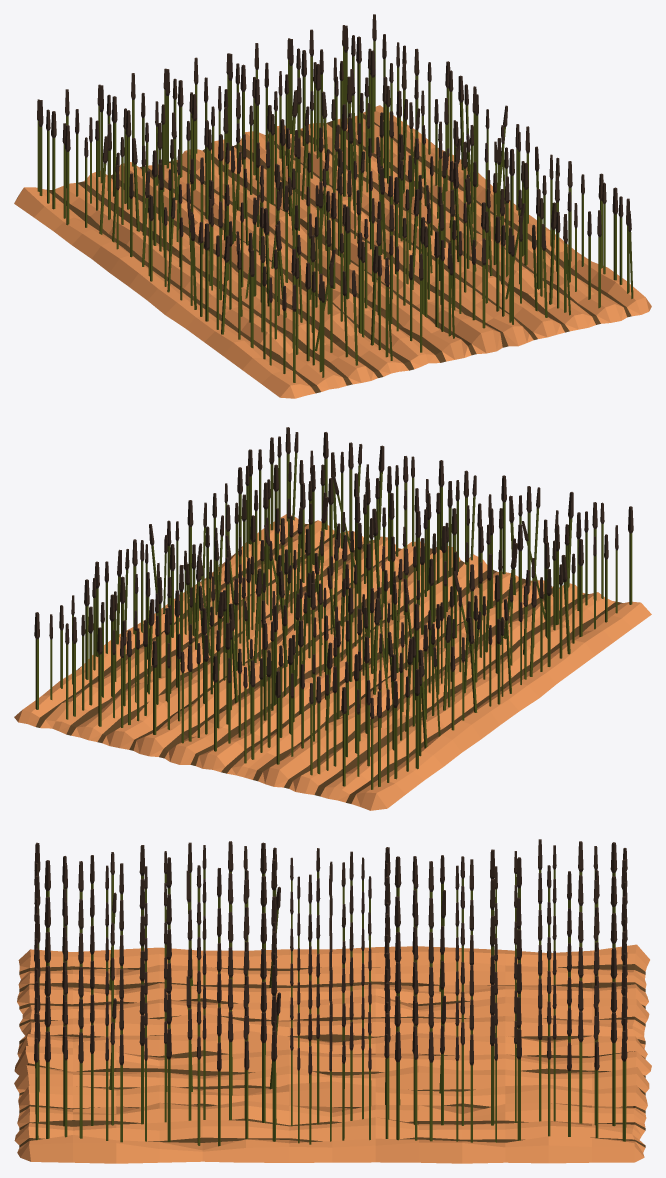
The model's file is Field_P_L.fbx.
3 views of the same model, one above another, from view 1: azimuth 30°, elevation 25°; view 2: azimuth 150°, elevation 25°; view 3: azimuth 270°, elevation 25° (orthographic). The views are drawn at different scales.
Parts seen in each view (by area): view 1: Field_Wheat_L.001; view 2: Field_Wheat_L.001; view 3: Field_Wheat_L.001.
Part boxes in pixels (x1=…): Field_Wheat_L.001: x1=14, y1=14, x2=651, y2=398; Field_Wheat_L.001: x1=14, y1=427, x2=651, y2=810; Field_Wheat_L.001: x1=14, y1=839, x2=651, y2=1163.
Bounding box in the file's own units: 10.49 × 2.88 × 13.46.
